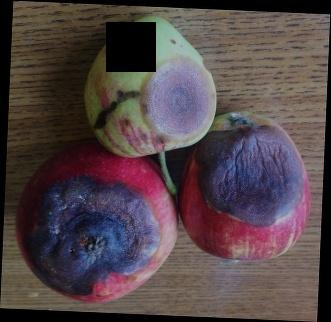rotten apple: (14, 141, 183, 306), (82, 14, 226, 161), (182, 107, 314, 265)
